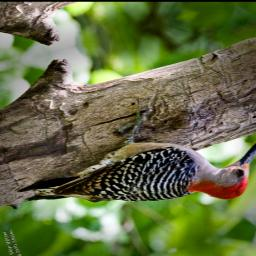Woodpecker: (0, 67, 256, 256)
